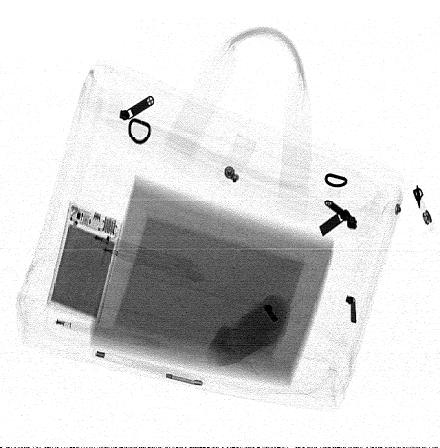Powerbank: (46, 201, 124, 324)
